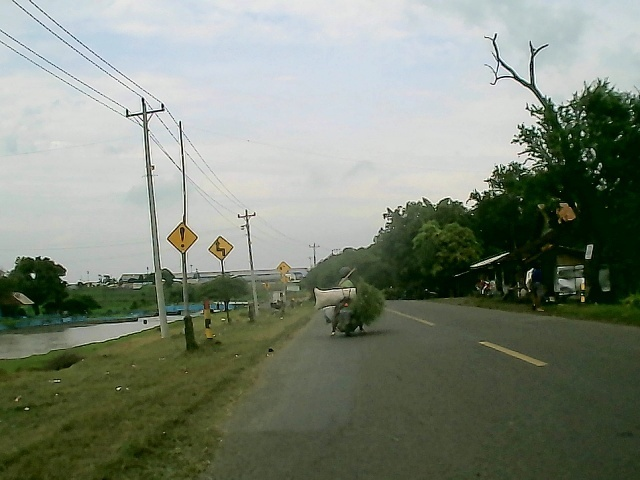Hati-hati: (162, 220, 199, 257)
Tikungan garda pertama kiri: (207, 233, 235, 264)
